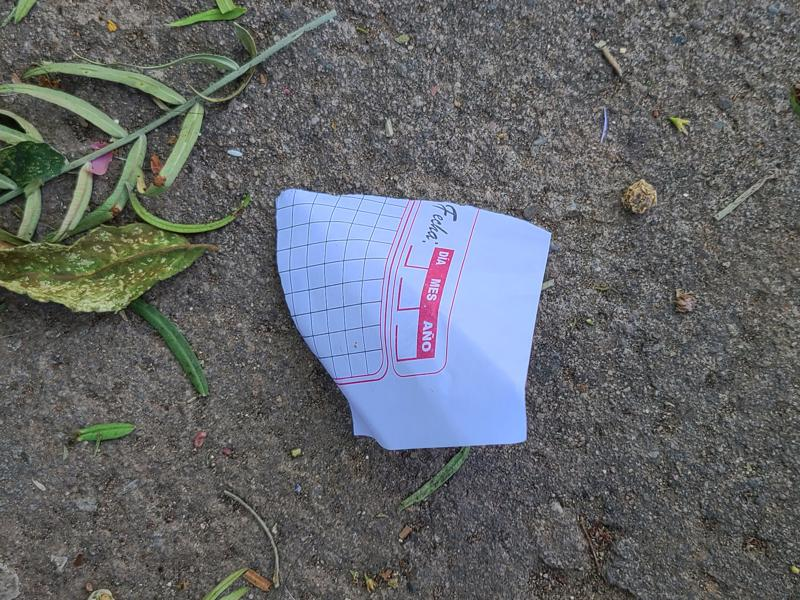papel: (272, 189, 551, 453)
